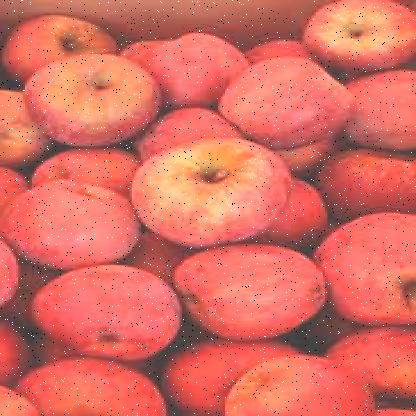apple: (145, 146, 294, 244), (40, 263, 186, 358), (188, 249, 338, 333), (27, 52, 157, 148), (223, 54, 346, 149), (22, 181, 154, 267), (307, 216, 411, 316), (174, 336, 302, 404), (122, 36, 254, 100), (234, 354, 362, 414), (28, 356, 152, 414), (300, 5, 414, 66), (334, 71, 414, 149)
